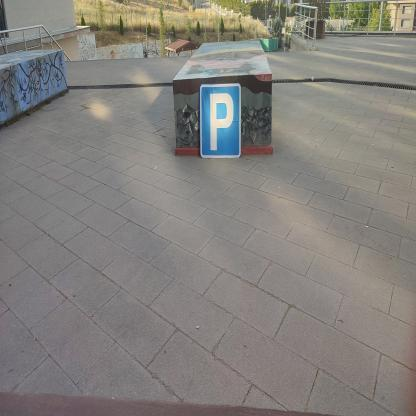parking: (197, 80, 242, 162)
